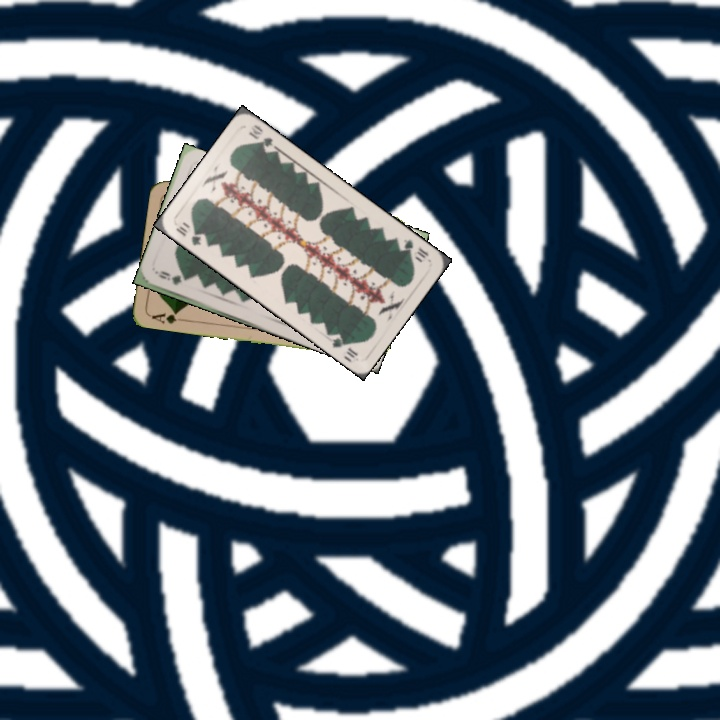G10: (399, 235, 432, 265), (172, 222, 204, 248)
G9: (153, 267, 191, 287)
GA: (148, 307, 187, 326)
